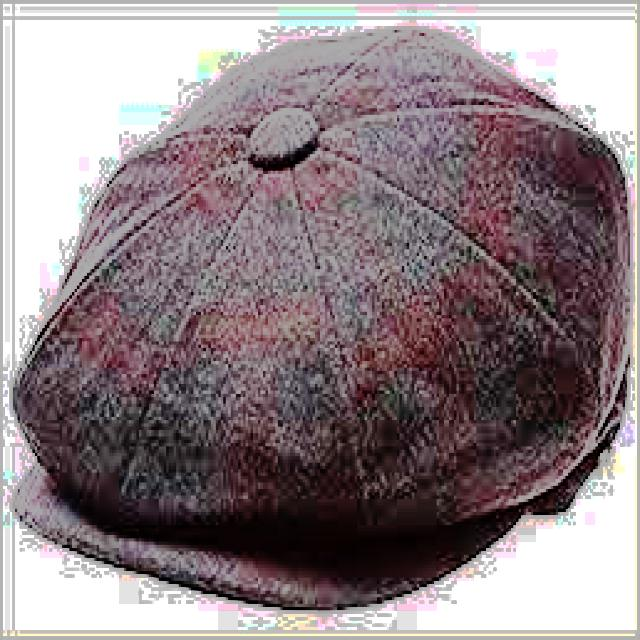TOPI: (0, 26, 628, 614)
